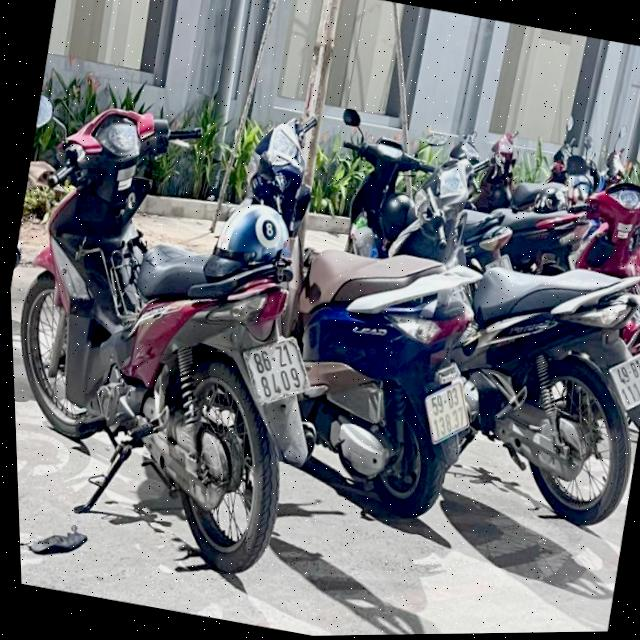motorcycle: (5, 134, 359, 541), (259, 216, 527, 541), (429, 222, 640, 541)
plate: (233, 326, 319, 411), (413, 374, 480, 450), (601, 343, 640, 417)
